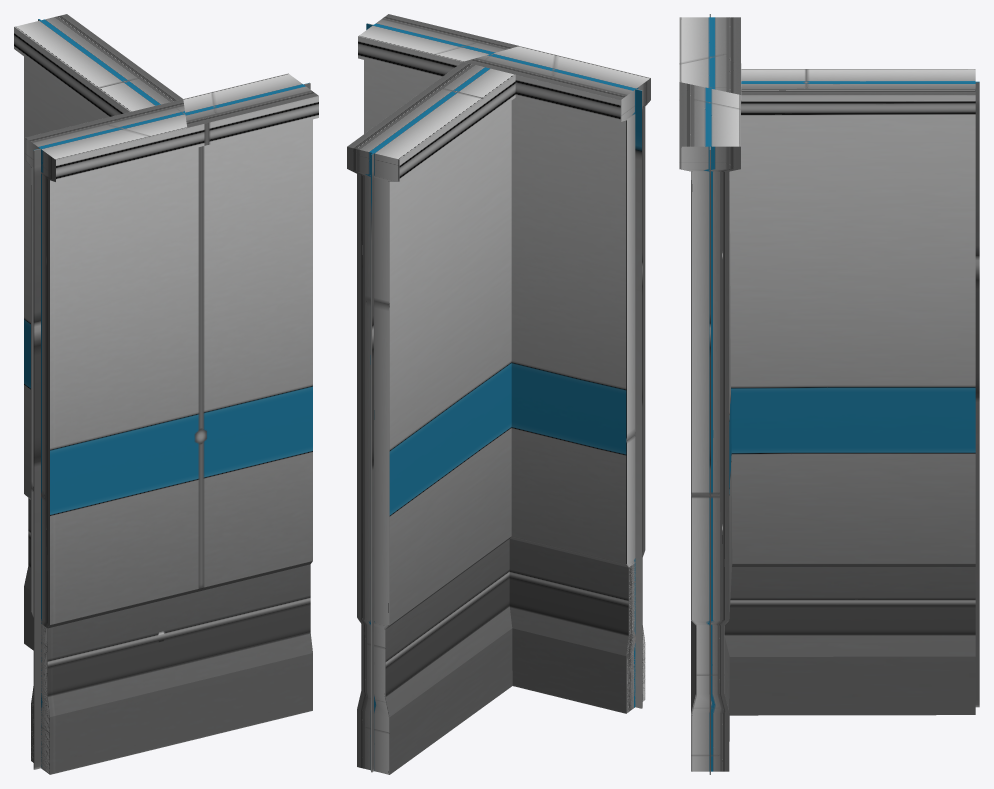
Rendered from TPC_LLM_LU_BB.fbx.
3 views of the same model, side by side, from view 1: azimuth 30°, elevation 25°; view 2: azimuth 150°, elevation 25°; view 3: azimuth 270°, elevation 25° (orthographic).
Parts seen in each view (by area): view 1: TPC_LLM_LU_BB; view 2: TPC_LLM_LU_BB; view 3: TPC_LLM_LU_BB.
Part boxes in pixels (box(x1,y1,x2,y2)): TPC_LLM_LU_BB: box(14, 14, 318, 774); TPC_LLM_LU_BB: box(347, 14, 650, 774); TPC_LLM_LU_BB: box(679, 14, 979, 774).
Size of the model in its own units: 2.1 by 4.5 by 1.96.
